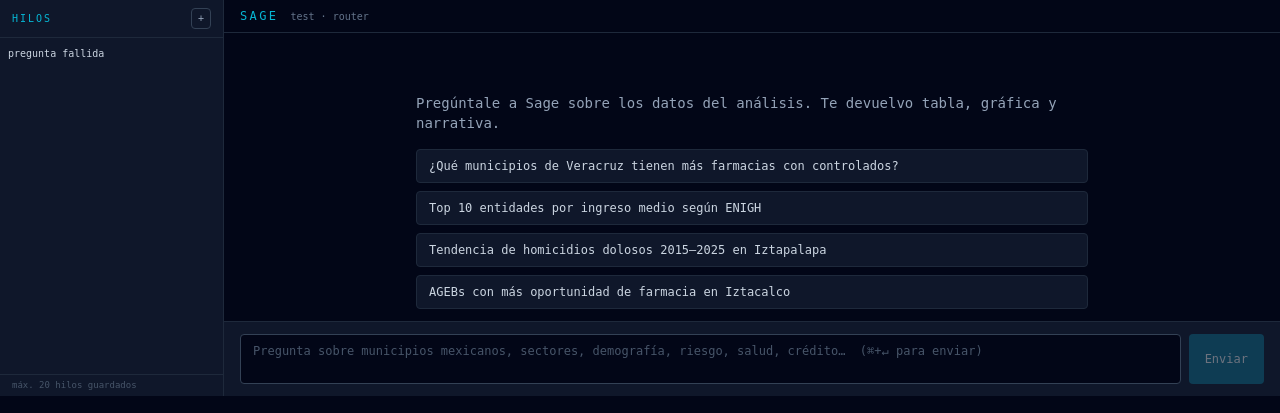
Test case: SageMode thread ownership (#11/#82/#89) › restores a persisted failed turn with its error
This screenshot has width=1280, height=413.
Step 1. Click the button "pregunta fallida" → [102, 54], box x1=8 y1=46 x2=197 y2=61
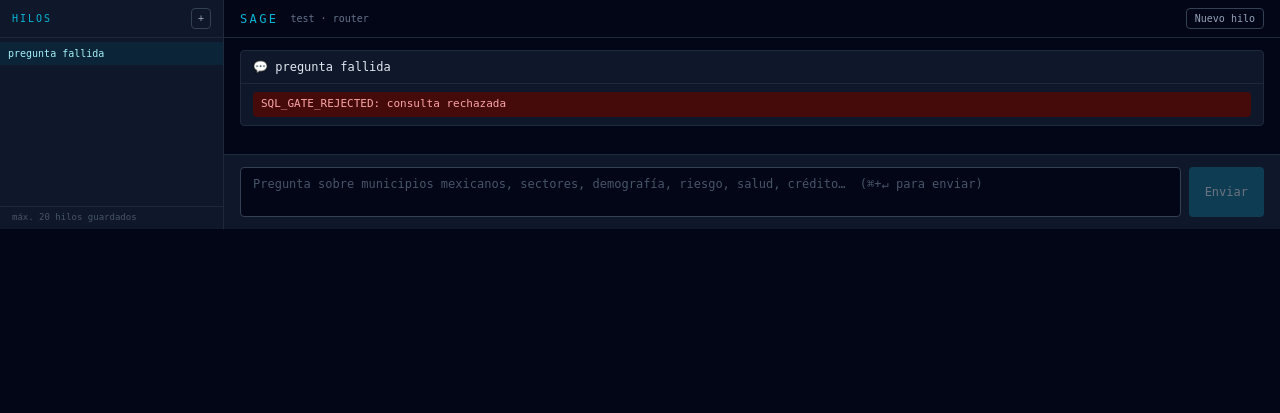
Now the text "SQL_GATE_REJECTED: consulta rechazada" is shown, box x1=253 y1=92 x2=1251 y2=116
